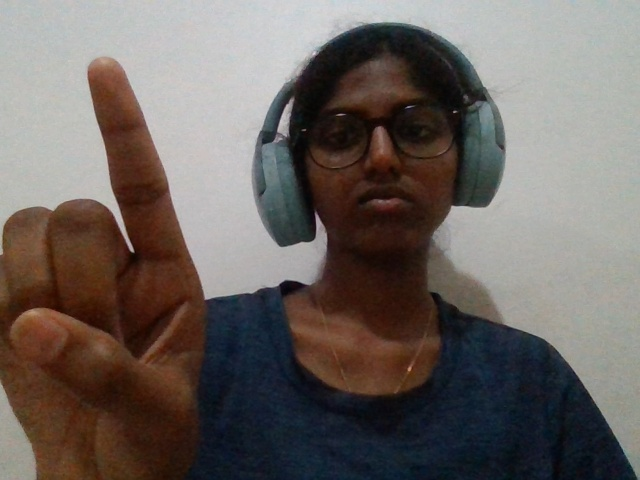D: (2, 31, 224, 473)
